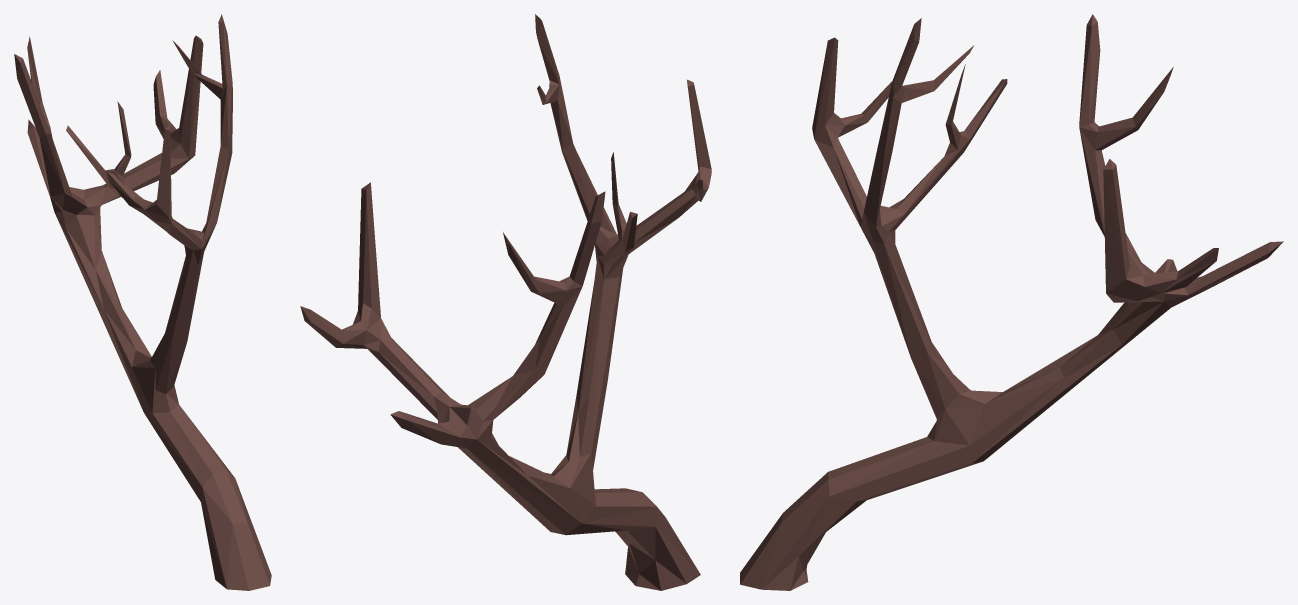
The model's file is Willow_Dead_2.lod2.glb.
3 views of the same model, side by side, from view 1: azimuth 30°, elevation 25°; view 2: azimuth 150°, elevation 25°; view 3: azimuth 270°, elevation 25° (orthographic). The views are drawn at different scales.
Parts seen in each view (by area): view 1: Willow_Dead_2; view 2: Willow_Dead_2; view 3: Willow_Dead_2.
Boxes of the visible parts, left/top/right/bottom form: Willow_Dead_2: left=14, top=14, right=271, bottom=590; Willow_Dead_2: left=300, top=14, right=711, bottom=590; Willow_Dead_2: left=740, top=14, right=1283, bottom=590.
Size of the model in its own units: 1.17 by 2.83 by 2.39.
